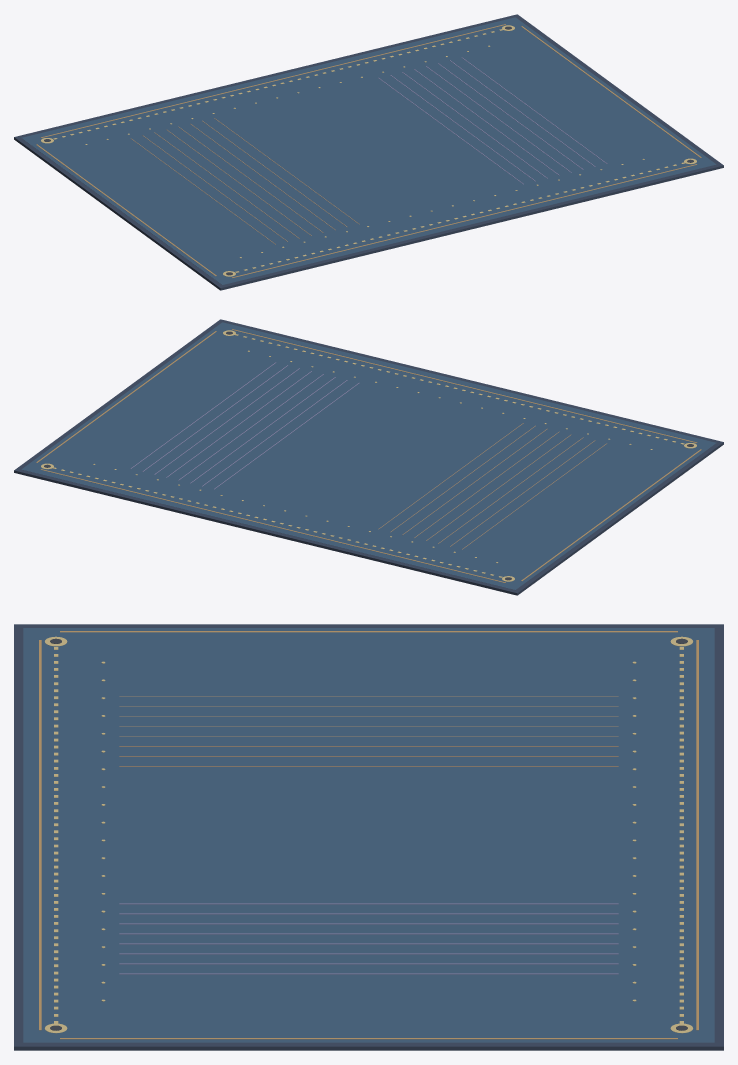
Rendered from 167_L113_PCB_Main.glb.
The picture shows the model from 3 angles, top to bottom: view 1: azimuth 30°, elevation 25°; view 2: azimuth 150°, elevation 25°; view 3: azimuth 270°, elevation 25°; orthographic projection. The views are drawn at different scales.
Parts seen in each view (by area): view 1: part0001__PSMAT__Soldermask_Cobalt, part0000__PSMAT__PCB_Graphite, part0004__PSMAT__Copper_Exposed, part0005__PSMAT__Copper_Exposed; view 2: part0001__PSMAT__Soldermask_Cobalt, part0000__PSMAT__PCB_Graphite, part0005__PSMAT__Copper_Exposed, part0004__PSMAT__Copper_Exposed; view 3: part0001__PSMAT__Soldermask_Cobalt, part0000__PSMAT__PCB_Graphite, part0002__PSMAT__Copper_Exposed, part0003__PSMAT__Copper_Exposed, part0004__PSMAT__Copper_Exposed, part0005__PSMAT__Copper_Exposed, part0014__PSMAT__PowerRail_Violet, part0015__PSMAT__PowerRail_Violet, part0016__PSMAT__PowerRail_Violet, part0017__PSMAT__PowerRail_Violet, part0018__PSMAT__PowerRail_Violet, part0019__PSMAT__PowerRail_Violet (+2 smaller).
Boxes of the visible parts, bbox=[...] form: part0001__PSMAT__Soldermask_Cobalt: bbox=[21, 17, 716, 284]; part0000__PSMAT__PCB_Graphite: bbox=[14, 14, 723, 290]; part0004__PSMAT__Copper_Exposed: bbox=[40, 24, 505, 138]; part0005__PSMAT__Copper_Exposed: bbox=[232, 164, 696, 277]; part0001__PSMAT__Soldermask_Cobalt: bbox=[21, 322, 716, 589]; part0000__PSMAT__PCB_Graphite: bbox=[14, 319, 723, 595]; part0005__PSMAT__Copper_Exposed: bbox=[232, 329, 697, 443]; part0004__PSMAT__Copper_Exposed: bbox=[41, 469, 505, 582]; part0001__PSMAT__Soldermask_Cobalt: bbox=[23, 628, 714, 1042]; part0000__PSMAT__PCB_Graphite: bbox=[14, 624, 723, 1050]; part0002__PSMAT__Copper_Exposed: bbox=[60, 631, 677, 632]; part0003__PSMAT__Copper_Exposed: bbox=[60, 1038, 677, 1039]; part0004__PSMAT__Copper_Exposed: bbox=[696, 640, 698, 1030]; part0005__PSMAT__Copper_Exposed: bbox=[39, 640, 41, 1030]; part0014__PSMAT__PowerRail_Violet: bbox=[119, 903, 618, 904]; part0015__PSMAT__PowerRail_Violet: bbox=[119, 913, 618, 914]; part0016__PSMAT__PowerRail_Violet: bbox=[119, 923, 618, 924]; part0017__PSMAT__PowerRail_Violet: bbox=[119, 933, 618, 934]; part0018__PSMAT__PowerRail_Violet: bbox=[119, 943, 618, 944]; part0019__PSMAT__PowerRail_Violet: bbox=[119, 953, 618, 954].
Size of the model in its own units: 0.38 by 0.00205 by 0.27.
